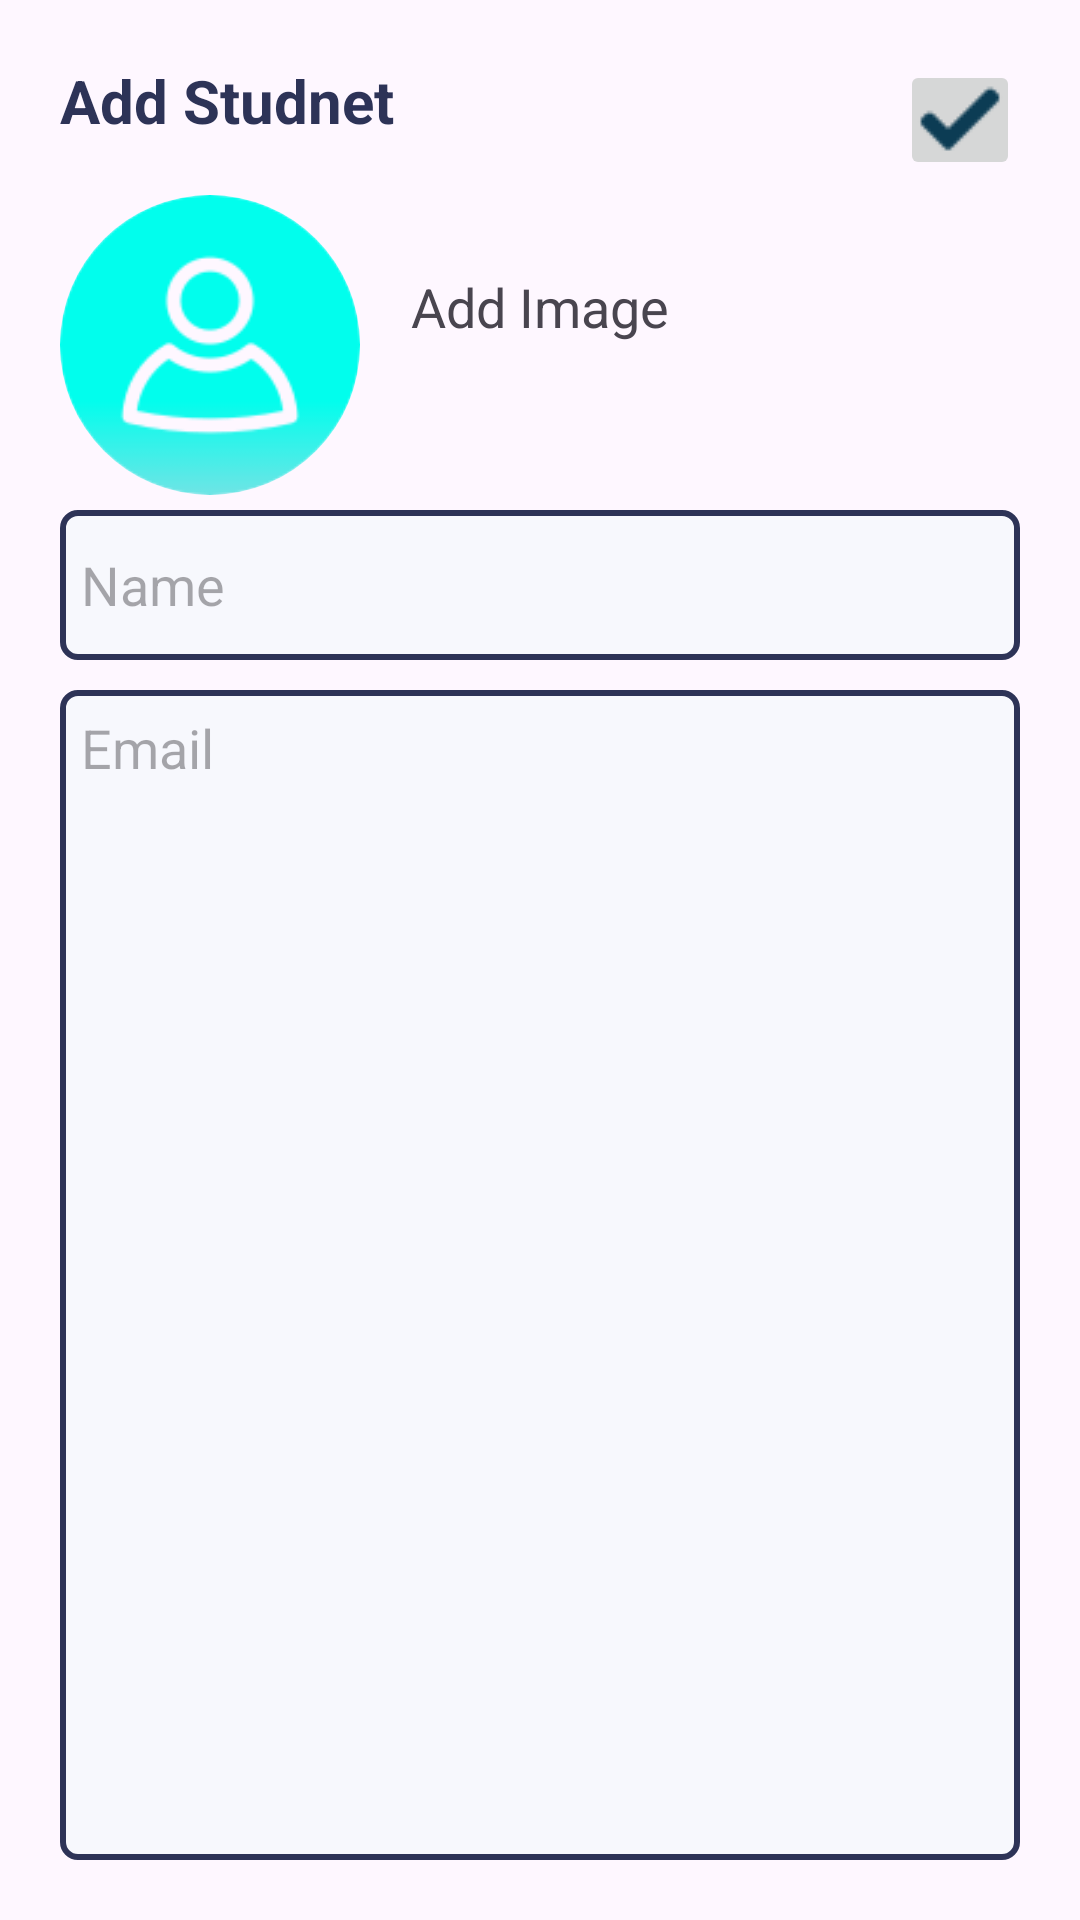

Point at icon controls on the screen. Image size 1080*1920, points as [x,y].
check: [960,120]
